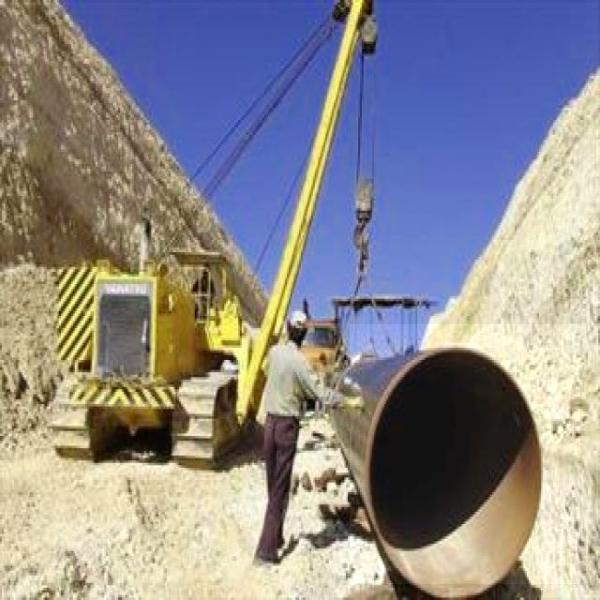crack: (350, 324, 580, 584)
